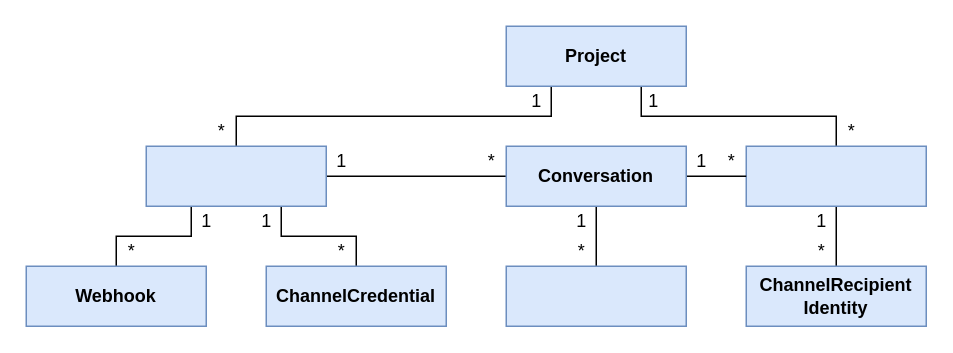
Some shapes in this 953 by 353 pixel diagram are drawn without their labels. Here are the shapes that lost their labels. From the top down, the centre of each, then its label:
At point (235, 175): "App".
At point (835, 175): "Contact".
At point (595, 295): "Conversation Message".
